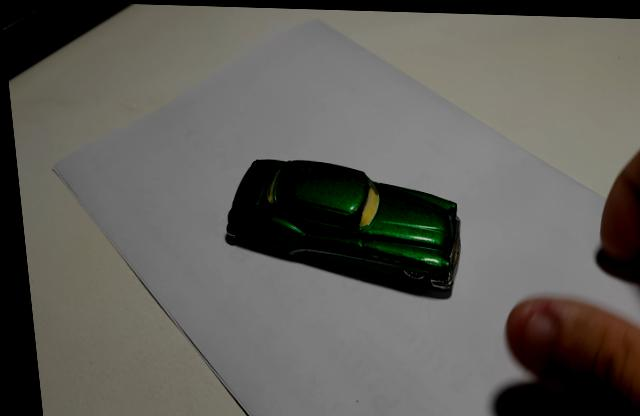06_MASERATI: (221, 158, 456, 299)
